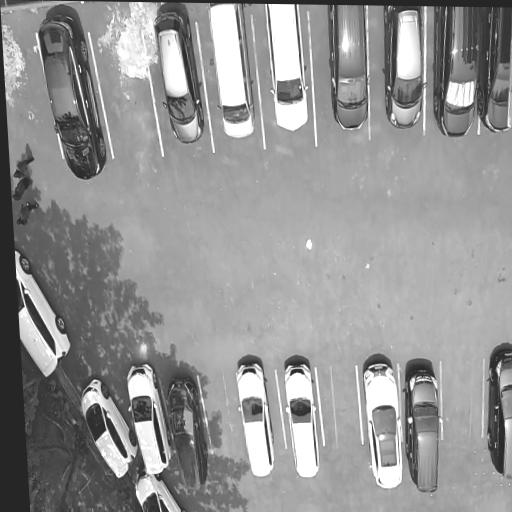Car: (36, 17, 106, 185), (15, 248, 74, 382), (428, 6, 485, 140), (151, 9, 204, 149), (360, 354, 409, 491), (207, 4, 256, 141), (76, 375, 139, 480), (324, 5, 375, 132), (380, 6, 430, 133), (402, 356, 446, 497), (124, 359, 174, 475), (265, 4, 310, 132), (164, 368, 209, 493), (471, 7, 512, 144), (234, 358, 280, 479), (281, 352, 322, 484), (482, 345, 512, 483), (133, 473, 189, 512)
Space Available: (90, 19, 159, 162), (197, 365, 246, 459), (317, 356, 362, 455), (441, 352, 482, 457)
